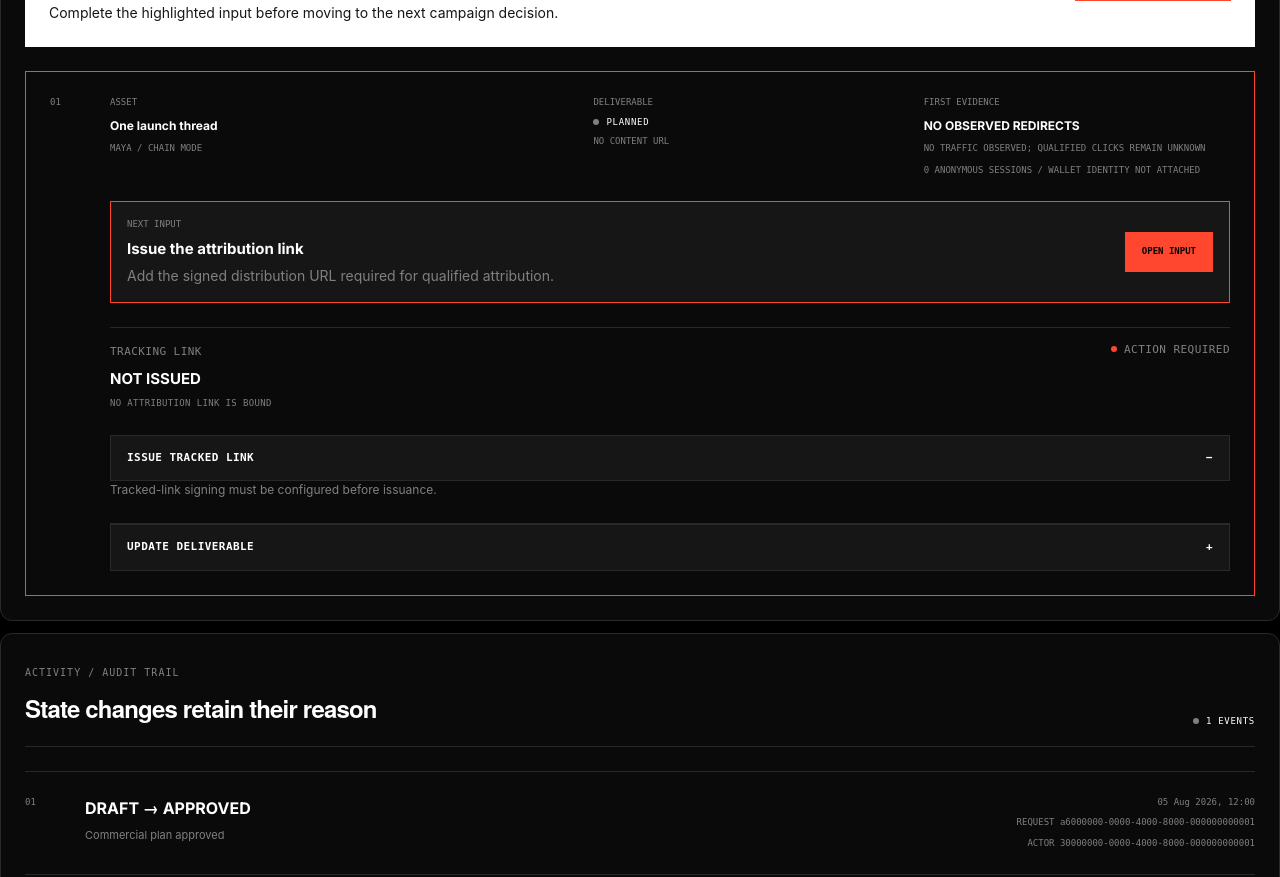
Test: campaign workspace › surfaces a recoverable deliverable network error
(page scrolled)
Click the heading "UPDATE DELIVERABLE": (191, 547) [110, 524, 1230, 571]
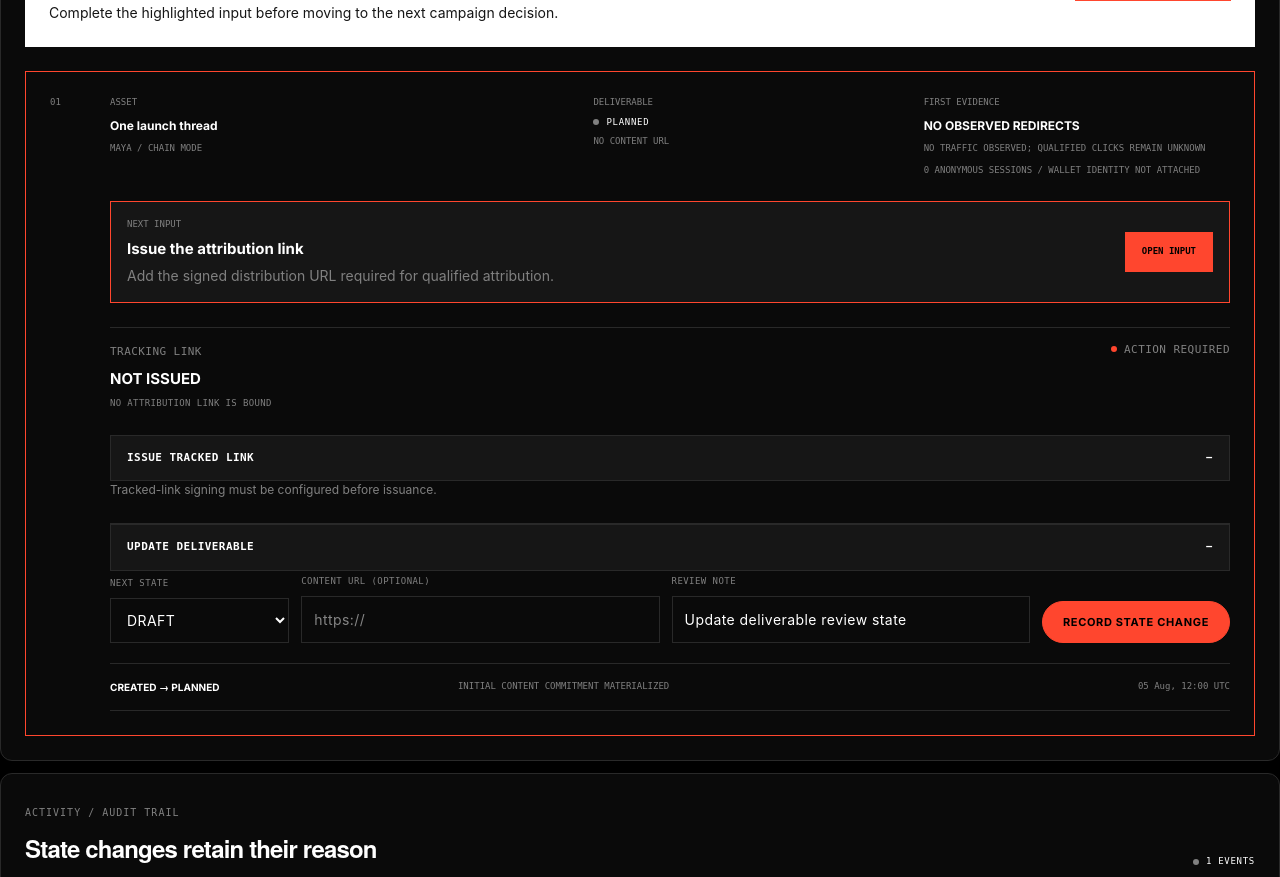
Click the button "RECORD STATE CHANGE": (1136, 622) [1042, 601, 1230, 643]
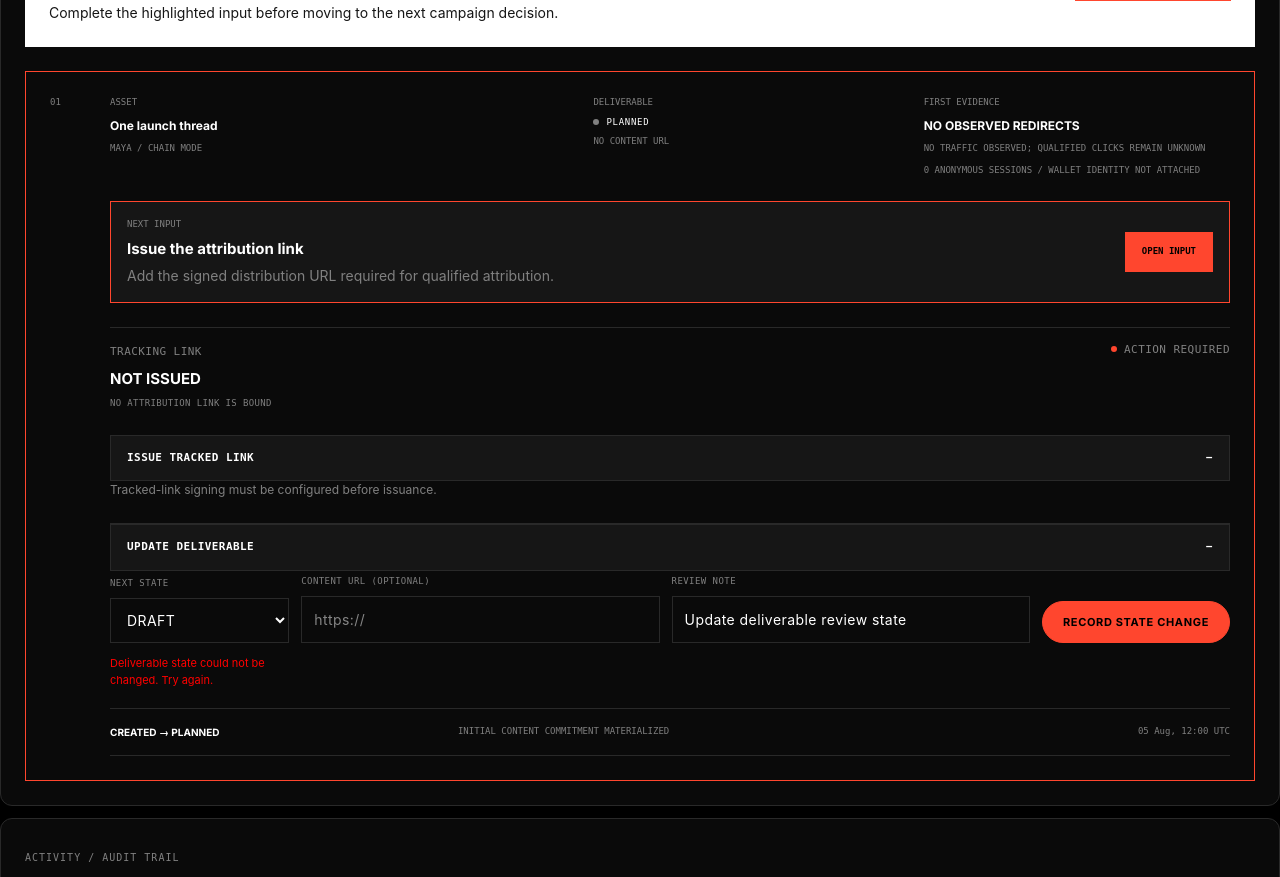
Expected: the message reads "Deliverable state could not be changed. Try again.", [110, 656, 265, 687]
